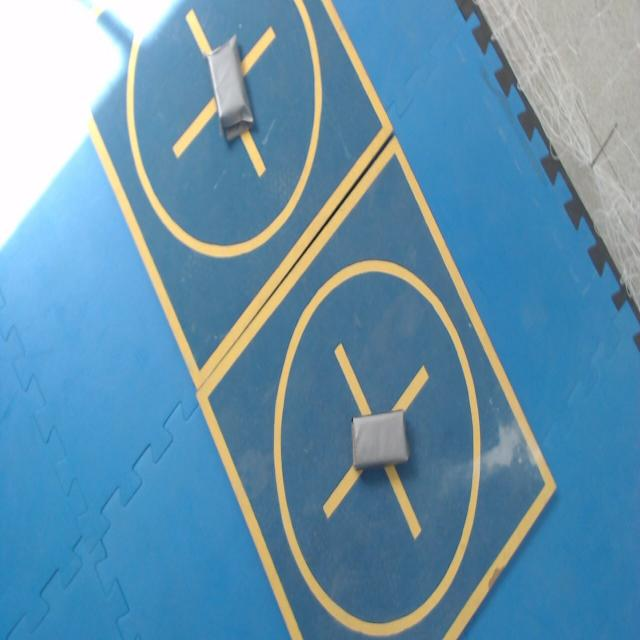esquerda: (207, 35, 253, 140)
horizontal: (352, 410, 408, 468)
